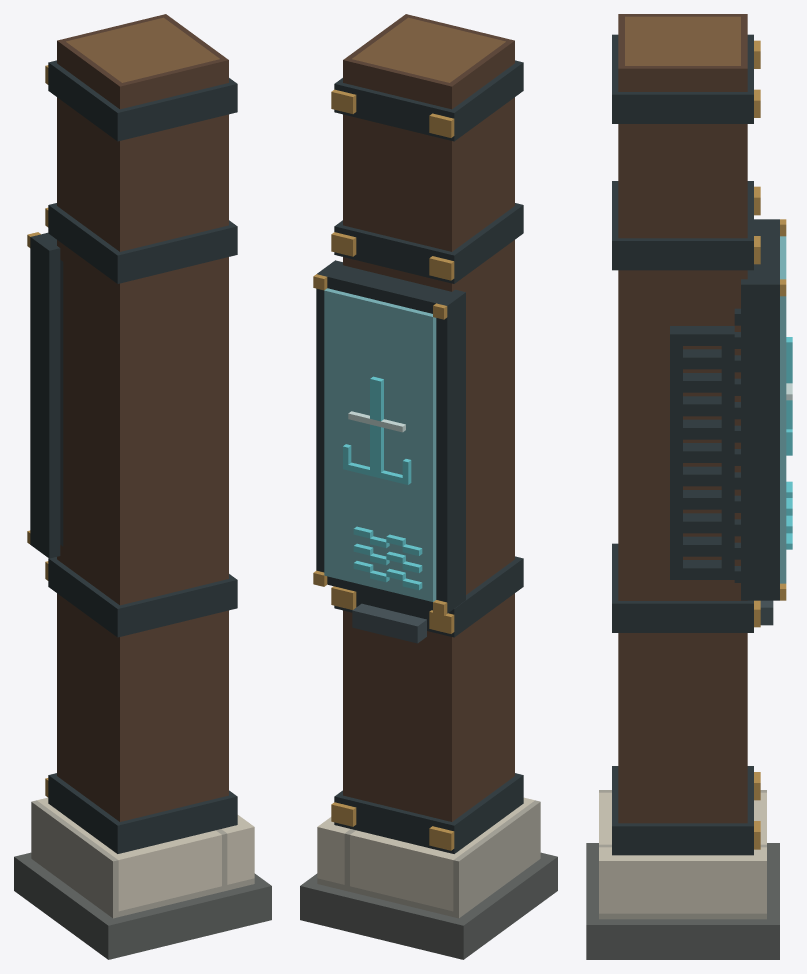
The picture shows the model from 3 angles, left to right: view 1: azimuth 30°, elevation 25°; view 2: azimuth 150°, elevation 25°; view 3: azimuth 270°, elevation 25°; orthographic projection. The views are drawn at different scales.
Visible parts, largest first — view 1: 旧渡口木桩显示件; view 2: 旧渡口木桩显示件; view 3: 旧渡口木桩显示件.
Boxes of the visible parts, x1,y1,x2,y2 form: 旧渡口木桩显示件: (14, 14, 271, 959); 旧渡口木桩显示件: (300, 14, 557, 959); 旧渡口木桩显示件: (586, 14, 792, 959).
Size of the model in its own units: 1.2 by 6 by 1.28.
Materials: 11 (11 with a texture image).
